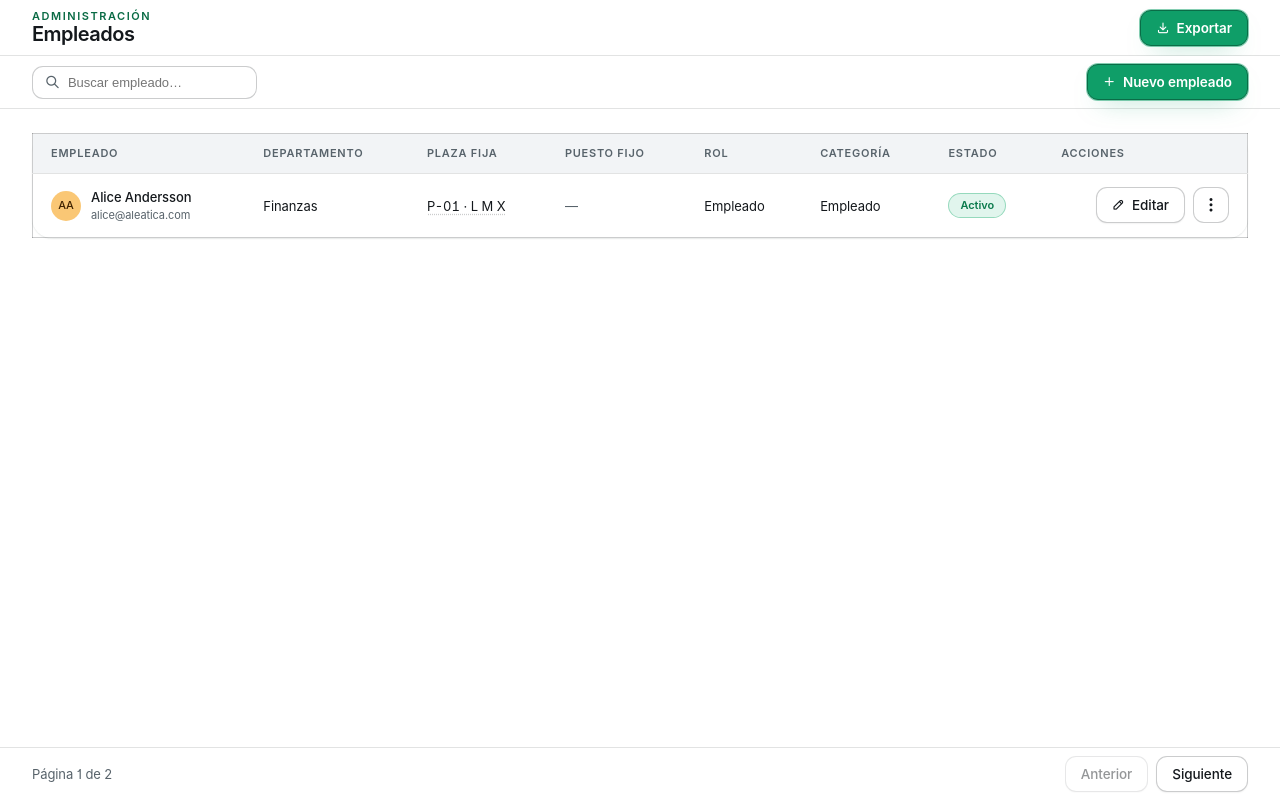
Test: EmployeesPage › should_change_page_when_clicking_next_on_multipage_result
The width and height of the screenshot is (1280, 800).
Expected: the text "Alice Andersson" is shown, [91, 187, 191, 207]
Click the button "Siguiente". click: (1202, 774)
box: [1156, 756, 1248, 792]
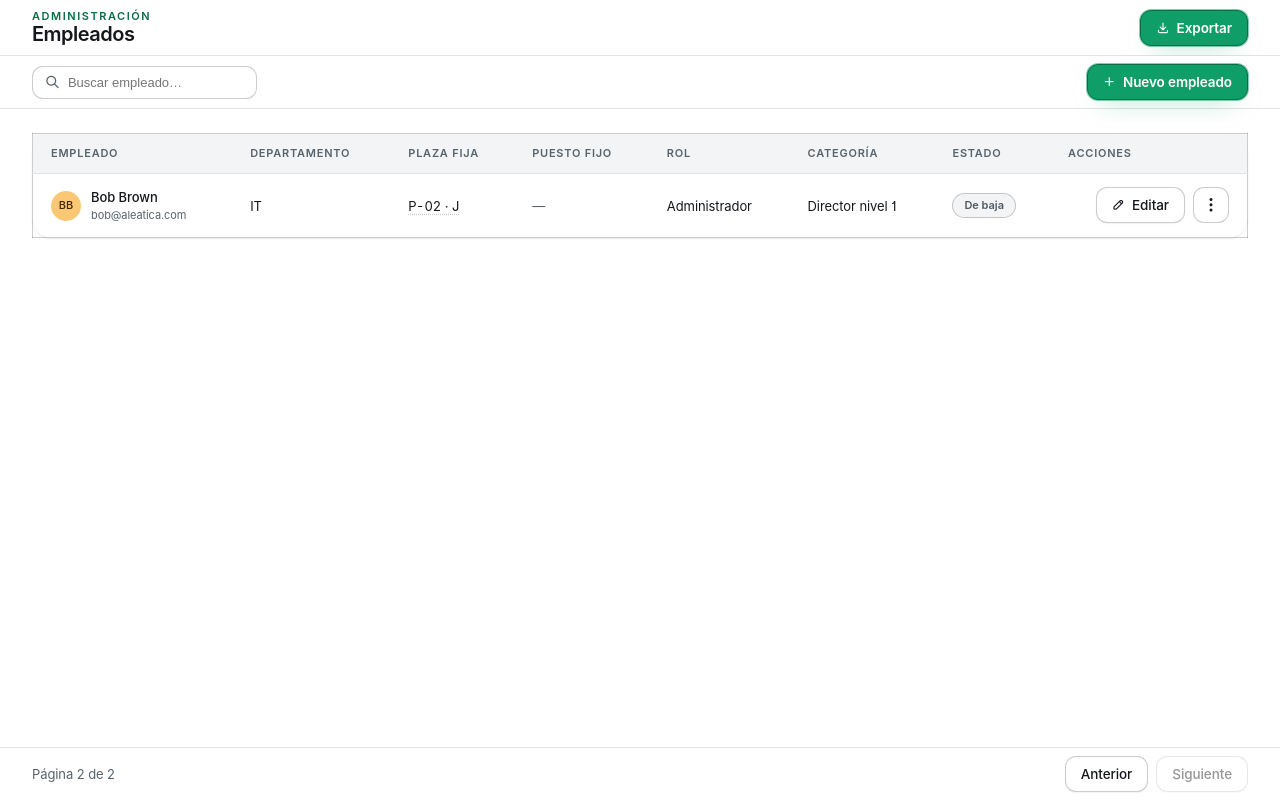
Expected: the text "Bob Brown" is shown, [91, 189, 158, 205]
